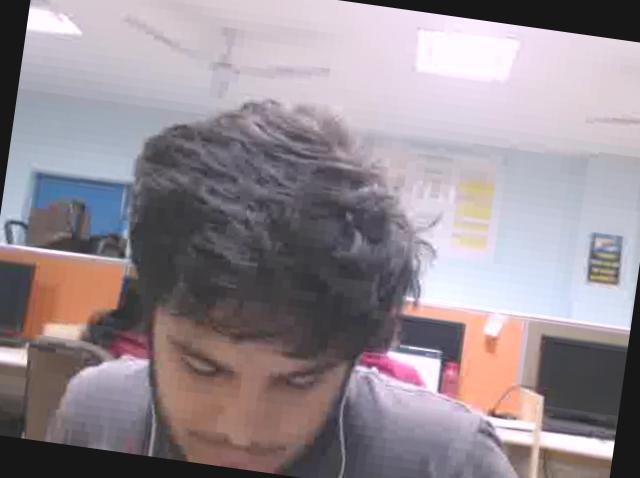bosan: (134, 284, 337, 478)
